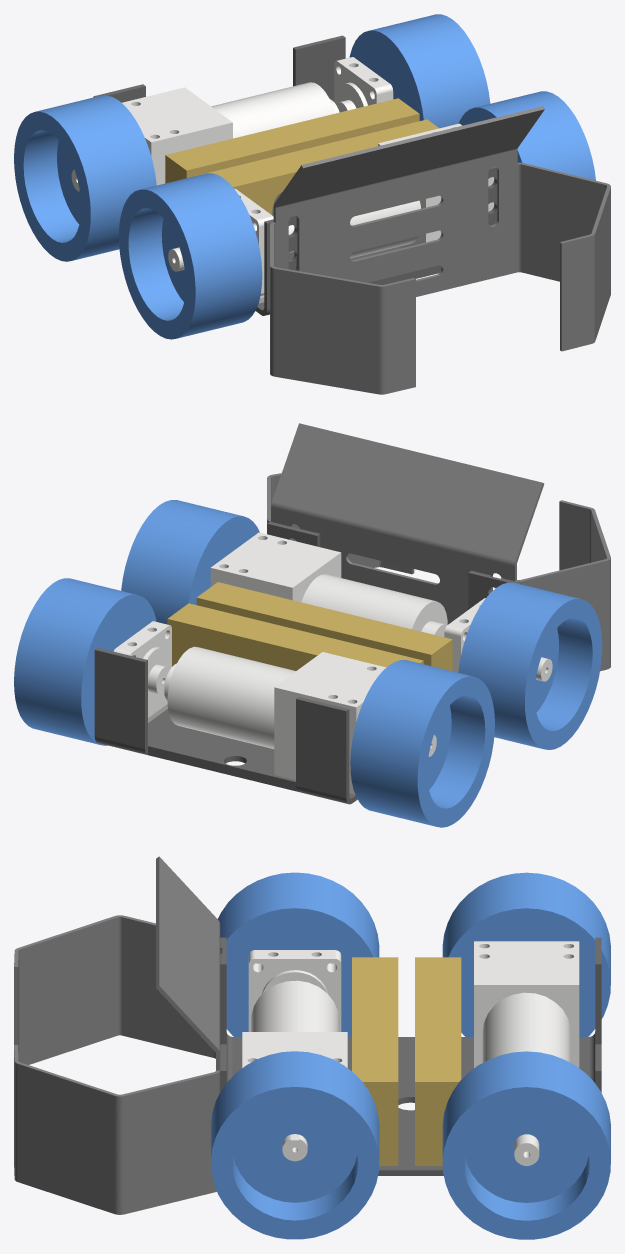
The model's file is soccer.glb.
The picture shows the model from 3 angles, top to bottom: view 1: azimuth 30°, elevation 25°; view 2: azimuth 150°, elevation 25°; view 3: azimuth 270°, elevation 25°; orthographic projection. The views are drawn at different scales.
Parts seen in each view (by area): view 1: OLD_SOCCAR; view 2: OLD_SOCCAR; view 3: OLD_SOCCAR.
Boxes of the visible parts, x1,y1,x2,y2 form: OLD_SOCCAR: (14, 14, 610, 394); OLD_SOCCAR: (14, 423, 610, 827); OLD_SOCCAR: (14, 856, 610, 1239).
Bounding box in the file's own units: 24.1 × 11.15 × 28.34.
